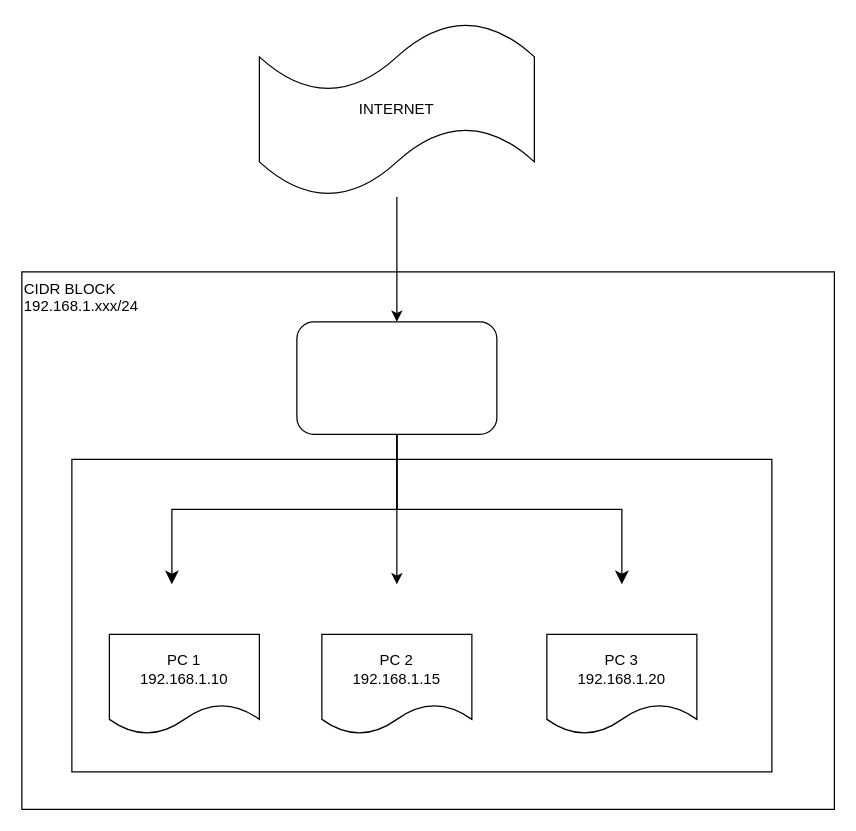
This 856x831 diagram has some shape labels left out. The shapes that lost their labels are listed below. From the top down, each one's box as (x1, y1, x2, y2) in pixels, then its label:
(296, 321, 497, 434): ROUTER (GATEAWAY) 192.168.1.1
(71, 458, 772, 772): SUBNET 255.255.255.0
